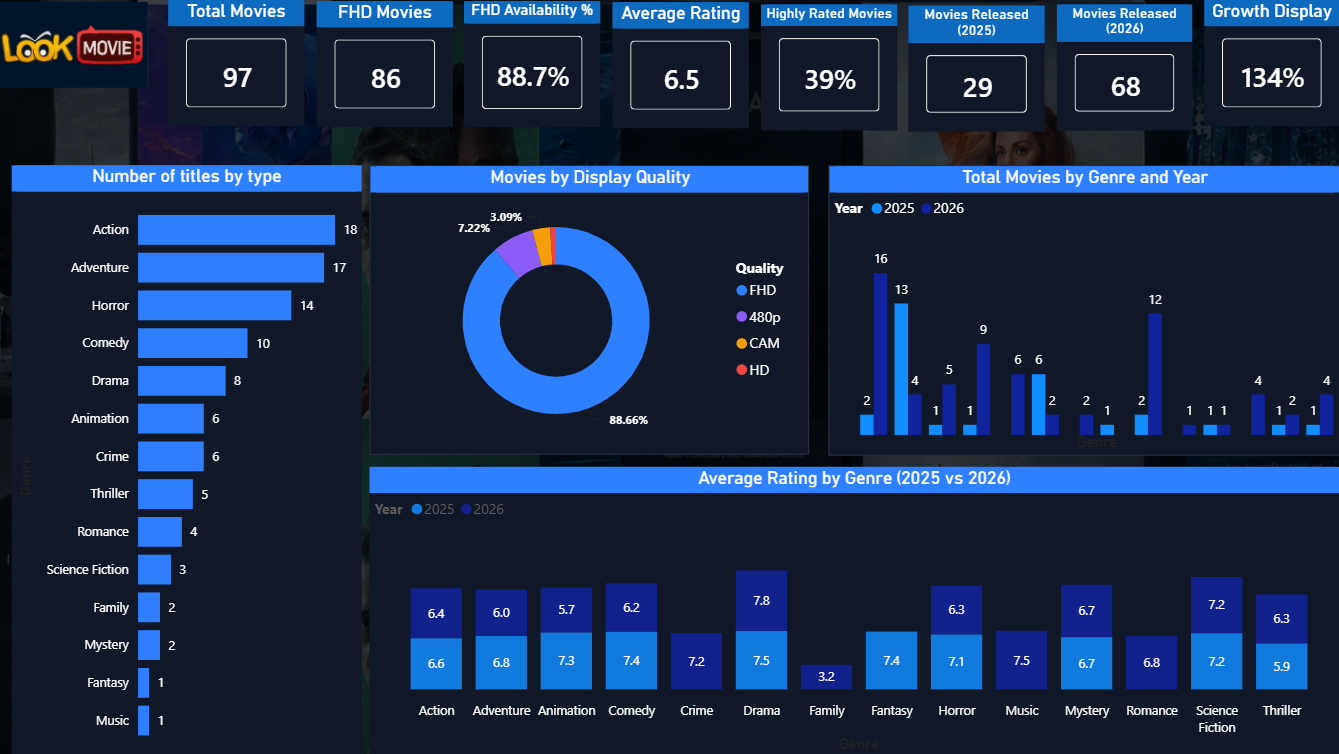

The page's visual inventory and layout, read from the dashboard file:
{"tool":"powerbi","page":{"name":"LooK Movies ","canvas":[1280,720],"ordinal":0},"visuals":[{"type":"donutChart","title":"Movies by Display Quality","fields":{"Category":["LookMovie.Quality"],"Y":["CountNonNull(LookMovie.Title)"]},"box":[356.1,157.9,419,275.6],"z":0},{"type":"clusteredBarChart","title":"Number of titles by type","fields":{"Category":["LookMovie.Genre"],"Y":["Count(LookMovie.Title)"]},"box":[14.5,157.9,333.6,562.4],"z":1000},{"type":"cardVisual","title":"FHD Movies","fields":{"Data":["Measurs 2.FHD Movies"]},"box":[305,0.6,130,120],"z":2000},{"type":"cardVisual","title":"Total Movies","fields":{"Data":["Measurs.Total Movies"]},"box":[163.9,0,130,120],"z":4000},{"type":"cardVisual","title":"FHD Availability %","fields":{"Data":["Measurs 2.FHD %"]},"box":[446.1,1.5,130,120],"z":5000},{"type":"cardVisual","title":"Highly Rated Movies","fields":{"Data":["Measurs.High Rated Percent"]},"box":[728.2,4,130,120],"z":6000},{"type":"cardVisual","title":"Average Rating","fields":{"Data":["Measurs.Average Rating"]},"box":[587.1,2.3,130,120],"z":7000},{"type":"image","box":[0,0,144.7,85.2],"z":8000},{"type":"columnChart","title":"Average Rating by Genre (2025 vs 2026)","fields":{"Category":["LookMovie.Genre"],"Series":["LookMovie.Year.Variation.Date Hierarchy.Year"],"Y":["Avg(LookMovie.Rating)"]},"box":[356.1,444.8,923.4,275.6],"z":10001},{"type":"cardVisual","title":"Movies Released (2025)","fields":{"Data":["Measurs.Total Movies 2025"]},"box":[869.3,4.8,130,120],"z":10002},{"type":"cardVisual","title":"Movies Released (2026)","fields":{"Data":["Measurs.Total Movies 2026"]},"box":[1009.9,4.8,129.2,119.7],"z":10003},{"type":"cardVisual","title":"Growth Display","fields":{"Data":["Measurs.Growth Display"]},"box":[1150.2,0,129.2,119.7],"z":10005},{"type":"clusteredColumnChart","fields":{"Category":["LookMovie.Genre"],"Y":["Measurs.Total Movies"],"Series":["LookMovie.Year.Variation.Date Hierarchy.Year"]},"box":[792.4,157.5,487,276.5],"z":10006}]}

Visuals, with their boxes in screenshot pixels (x1, y1, x2, y2), scaled from the page's 1280x720 canvas onto the 1339x754 screenshot:
"Movies by Display Quality" donutChart: locate(373, 165, 811, 454)
"Number of titles by type" clusteredBarChart: locate(15, 165, 364, 753)
"FHD Movies" cardVisual: locate(319, 1, 455, 126)
"Total Movies" cardVisual: locate(171, 0, 307, 126)
"FHD Availability %" cardVisual: locate(467, 2, 603, 127)
"Highly Rated Movies" cardVisual: locate(762, 4, 898, 130)
"Average Rating" cardVisual: locate(614, 2, 750, 128)
image: locate(0, 0, 151, 89)
"Average Rating by Genre (2025 vs 2026)" columnChart: locate(373, 466, 1338, 753)
"Movies Released (2025)" cardVisual: locate(909, 5, 1045, 131)
"Movies Released (2026)" cardVisual: locate(1056, 5, 1192, 130)
"Growth Display" cardVisual: locate(1203, 0, 1338, 125)
clusteredColumnChart - LookMovie.Genre x Measurs.Total Movies: locate(829, 165, 1338, 454)
